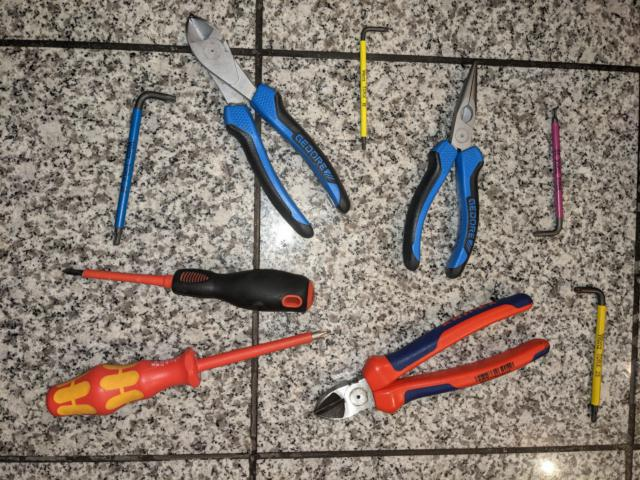Inbusschlüssel: (109, 87, 179, 248), (570, 283, 609, 428), (527, 104, 565, 239), (356, 22, 393, 152)
Schraubendreher: (44, 326, 334, 425), (59, 263, 318, 312)
Seitenschneider: (183, 11, 353, 244), (312, 290, 553, 425)
Zange: (400, 59, 489, 281)
